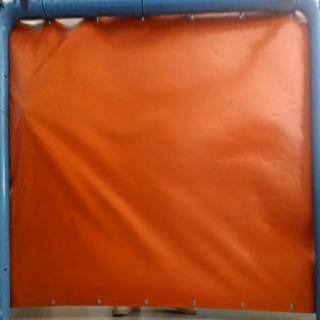Hit-hRxx: (14, 98, 27, 114)
